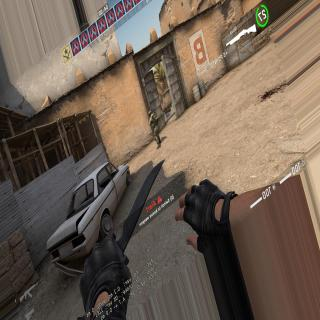CT-Body: (148, 110, 161, 148)
CT-Head: (148, 111, 152, 115)
